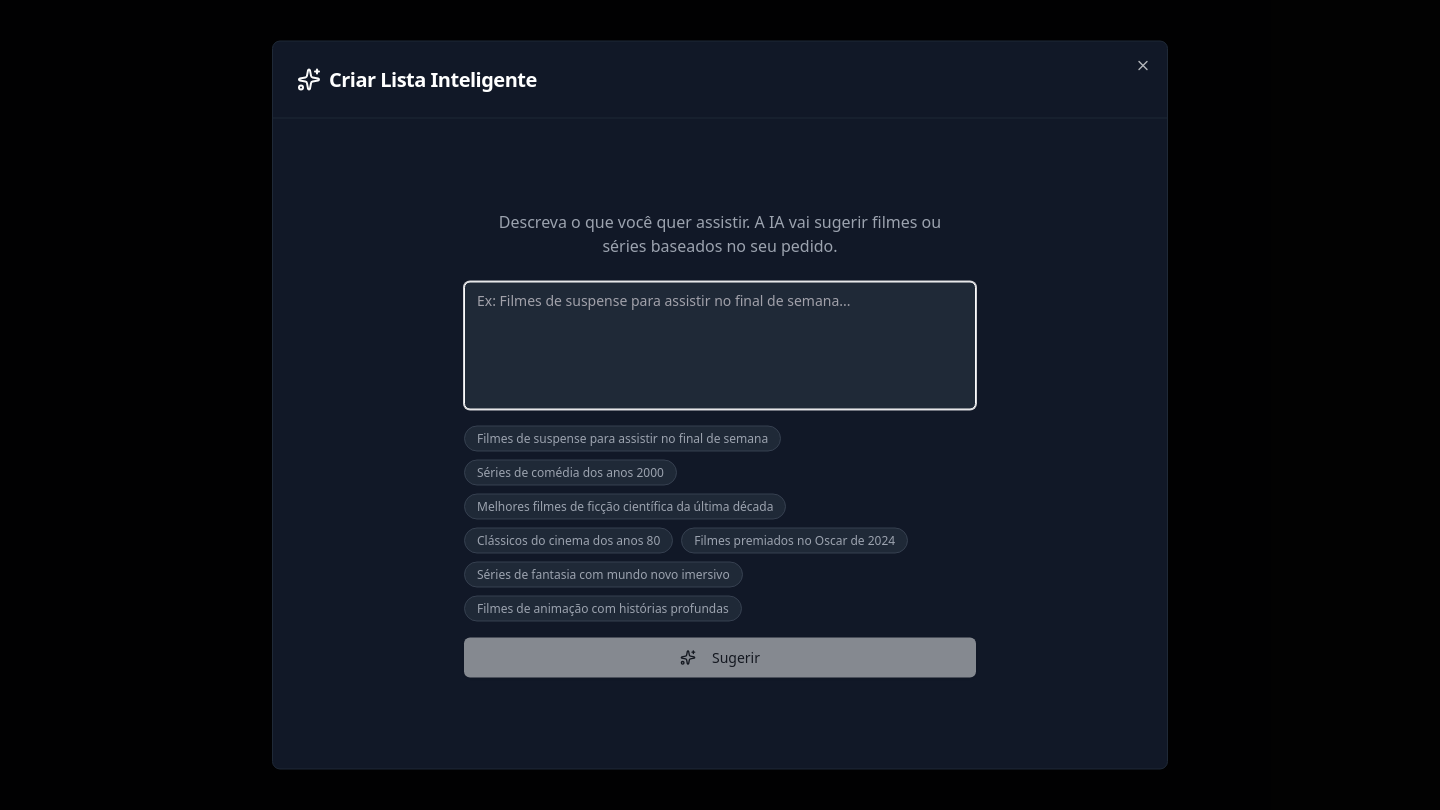
Test case: MagicSearchModal › shows loading steps
This screenshot has width=1440, height=810.
Type "matrix" into the text box with test id "magic-list-prompt-input" at (720,346), box [464,282,976,410]
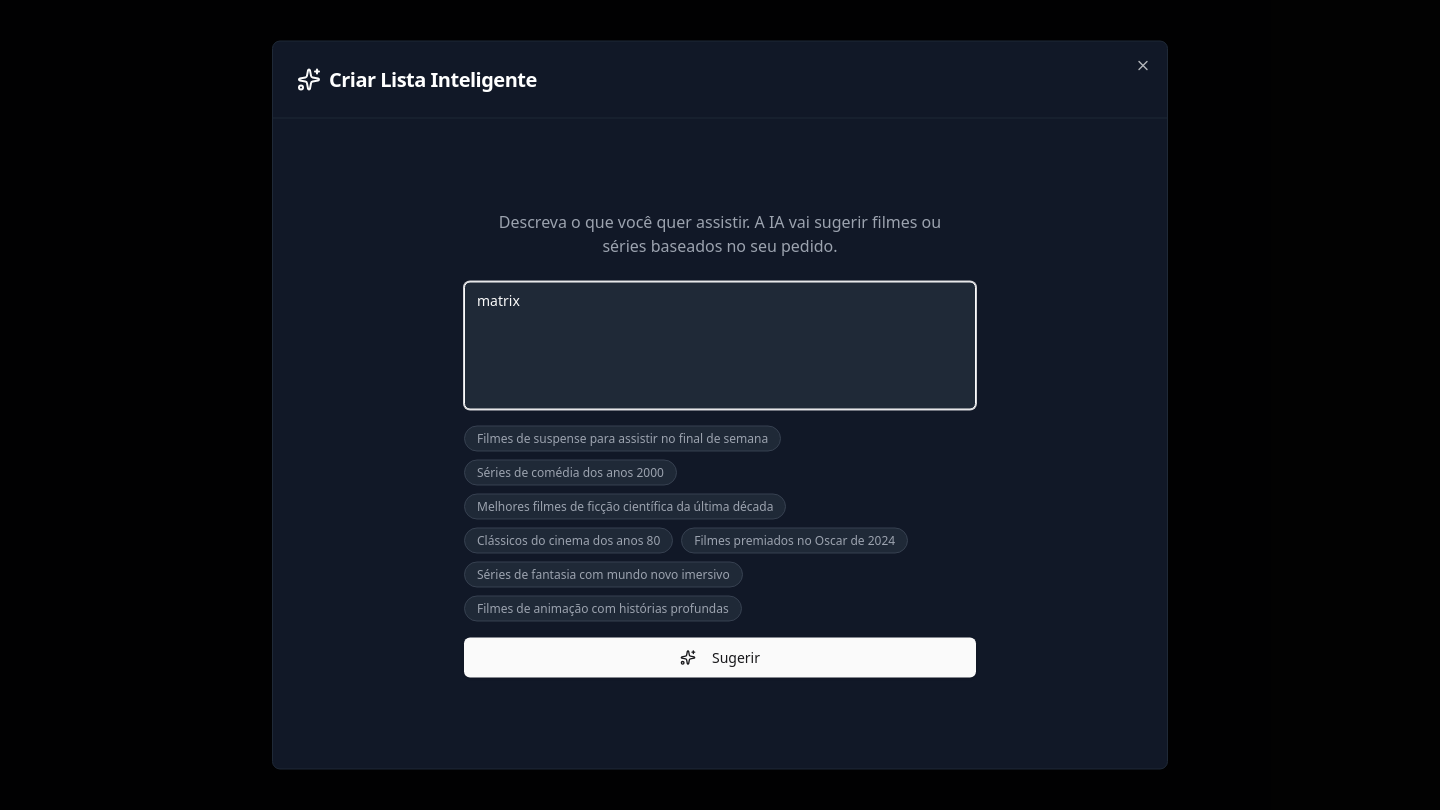
Click the button "Sugerir" at (720,658), box [464,638,976,678]
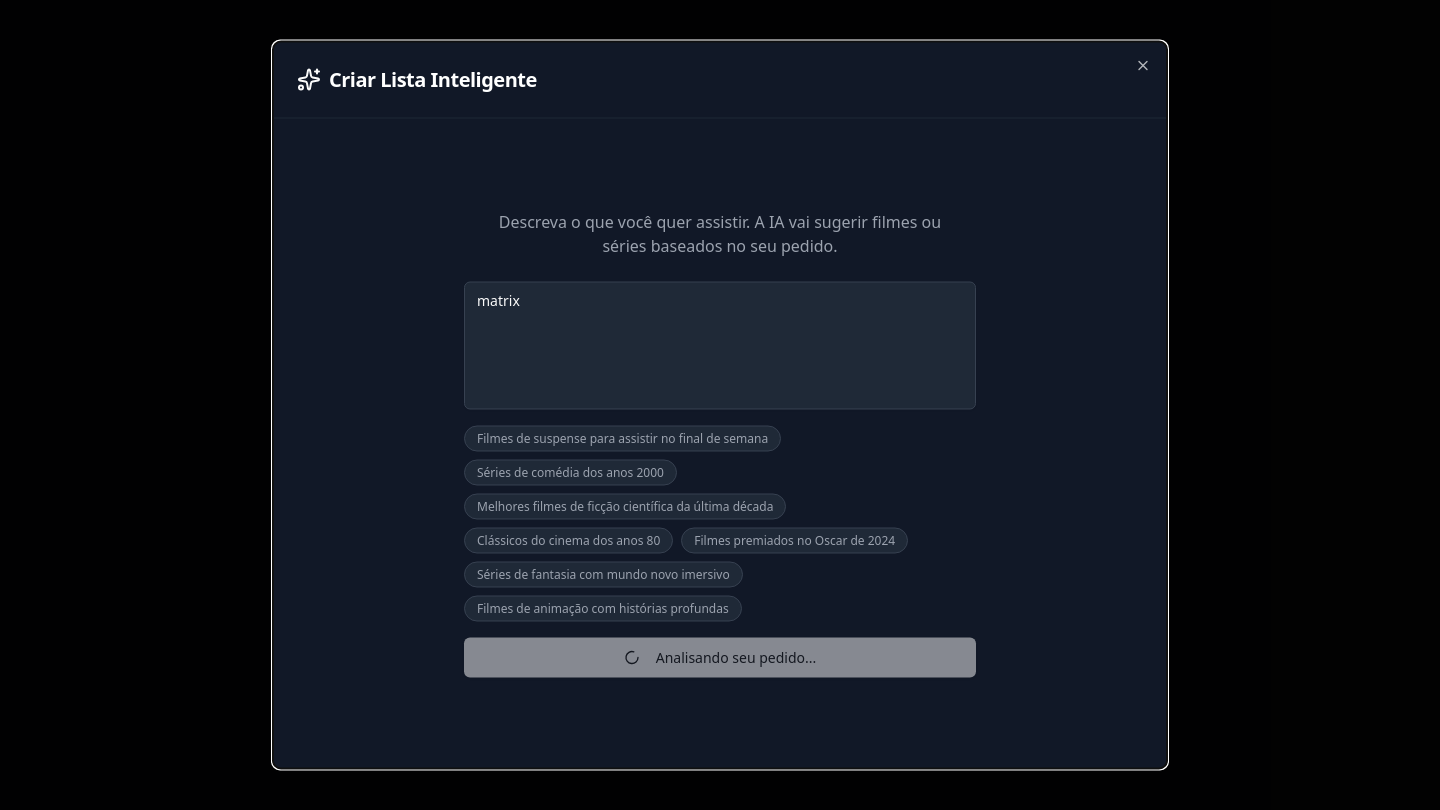
Now the button "Analisando seu pedido..." is shown, box [464,638,976,678]
